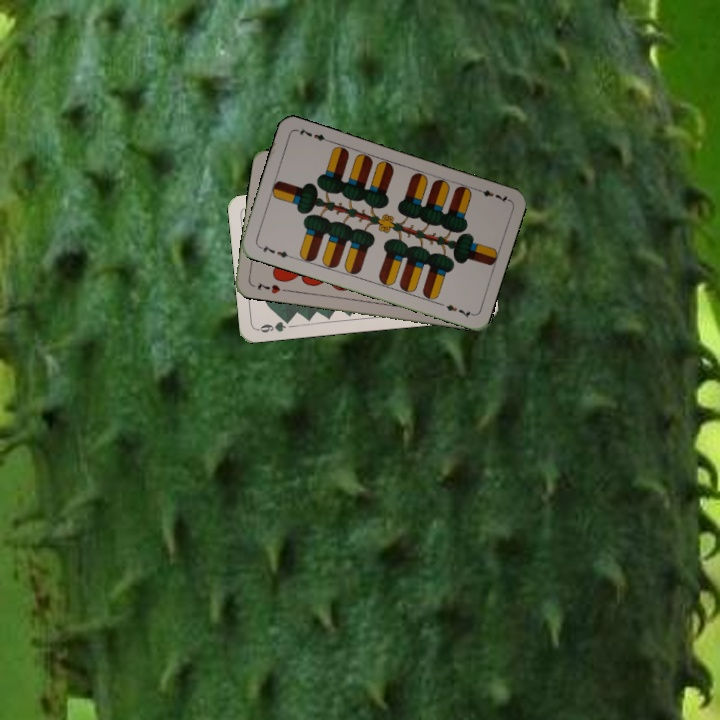E7: (472, 184, 511, 206), (255, 241, 294, 261)
G9: (254, 315, 294, 335)
H7: (254, 279, 283, 296)
